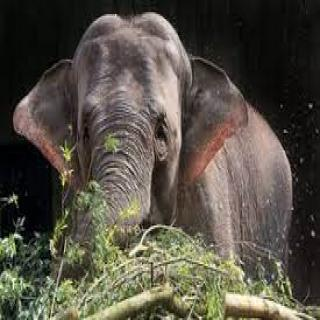Elephant: (12, 10, 296, 282)
